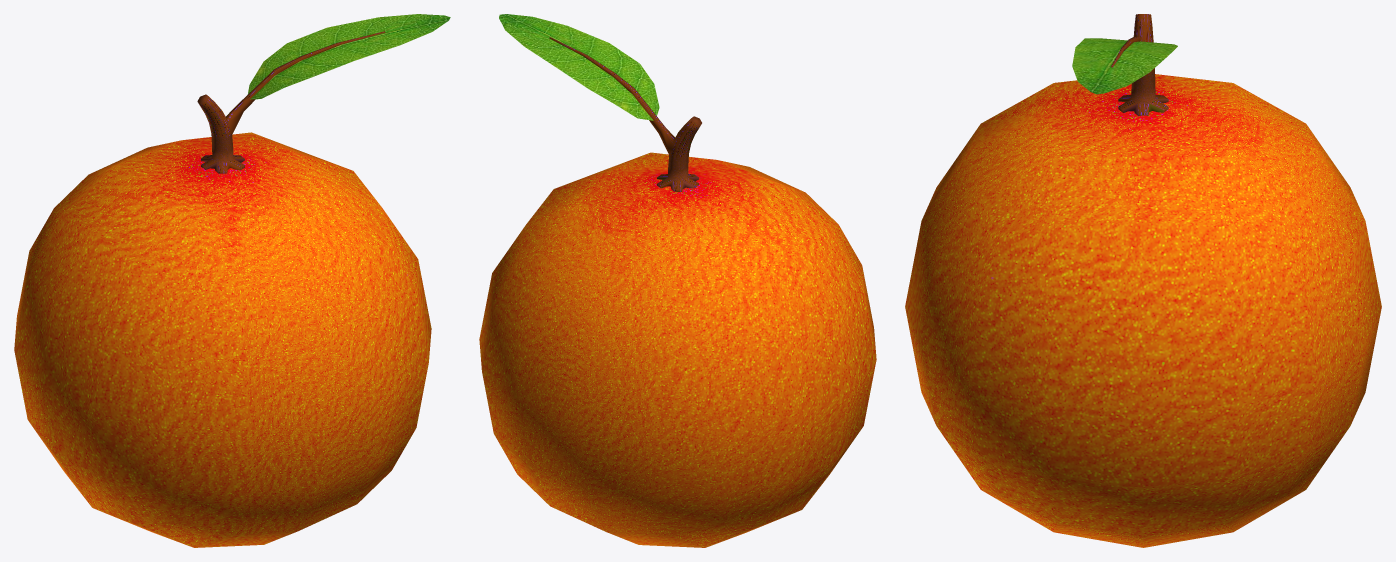
The model's file is orange.fbx.
The picture shows the model from 3 angles, left to right: view 1: azimuth 30°, elevation 25°; view 2: azimuth 150°, elevation 25°; view 3: azimuth 270°, elevation 25°; orthographic projection. The views are drawn at different scales.
Visible parts, largest first — view 1: Orange; view 2: Orange; view 3: Orange.
Boxes of the visible parts, x1=… form: Orange: x1=14, y1=14, x2=450, y2=547; Orange: x1=479, y1=14, x2=876, y2=547; Orange: x1=905, y1=14, x2=1381, y2=547.
Size of the model in its own units: 181 by 210 by 168.
Materials: 1 (1 with a texture image).
